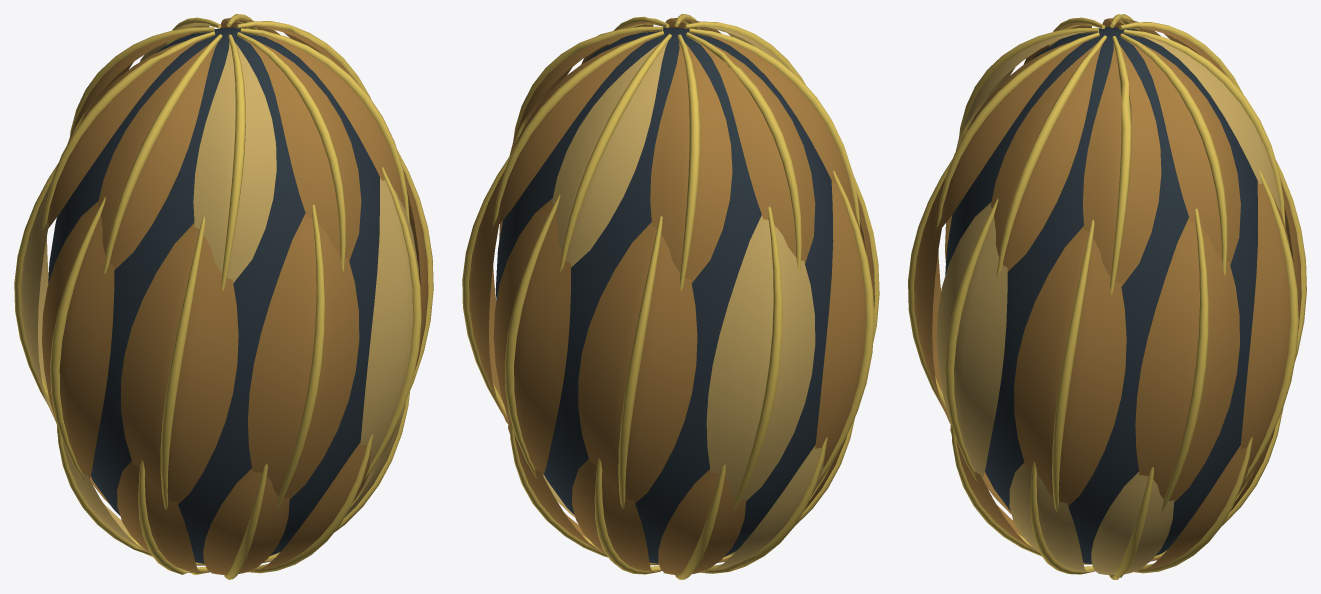
File: clutch_2.glb
3 renders of one model, left to right at view 1: azimuth 30°, elevation 25°; view 2: azimuth 150°, elevation 25°; view 3: azimuth 270°, elevation 25°, orthographic.
Parts seen in each view (by area): view 1: clutch_2; view 2: clutch_2; view 3: clutch_2.
Part boxes in pixels (box(x1,y1,x2,y2)): clutch_2: box(14, 14, 433, 579); clutch_2: box(462, 14, 879, 579); clutch_2: box(908, 14, 1306, 579).
Bounding box in the file's own units: 1.78 × 2.47 × 1.68.
